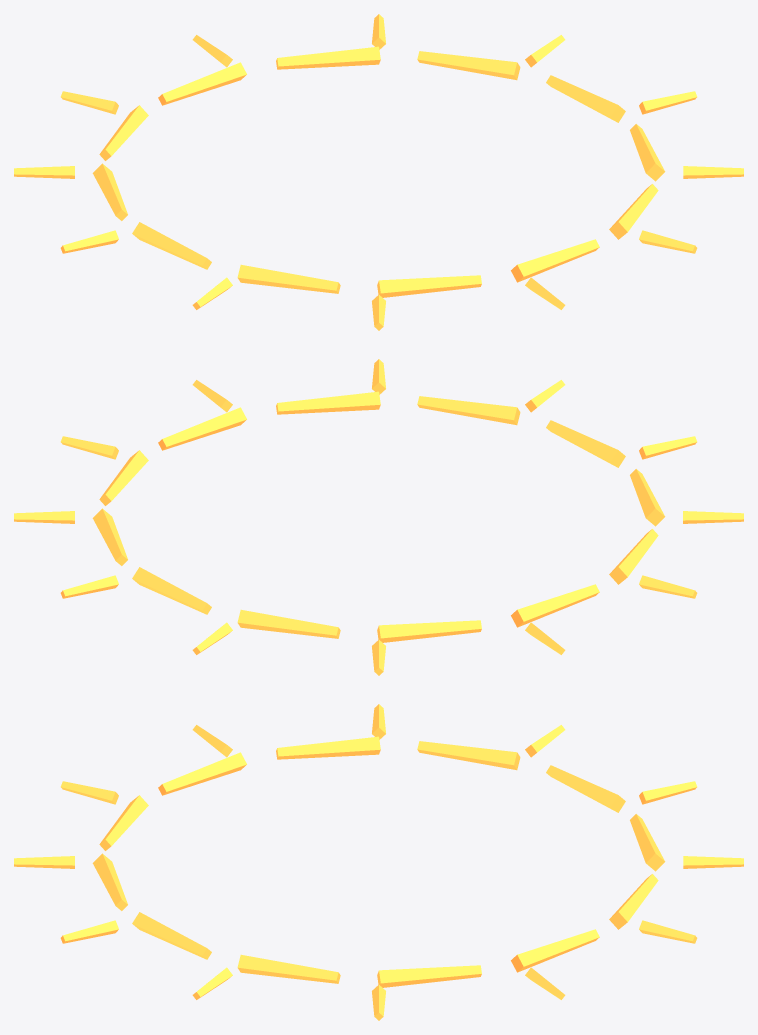
File: fire_ring.glb
The picture shows the model from 3 angles, top to bottom: view 1: azimuth 30°, elevation 25°; view 2: azimuth 150°, elevation 25°; view 3: azimuth 270°, elevation 25°; orthographic projection.
Parts seen in each view (by area): view 1: fire_ring; view 2: fire_ring; view 3: fire_ring.
Part boxes in pixels (box(x1,y1,x2,y2)): fire_ring: box(14, 14, 743, 330); fire_ring: box(14, 359, 743, 675); fire_ring: box(14, 704, 743, 1020).
Bounding box in the file's own units: 1.32 × 0.036 × 1.32.
